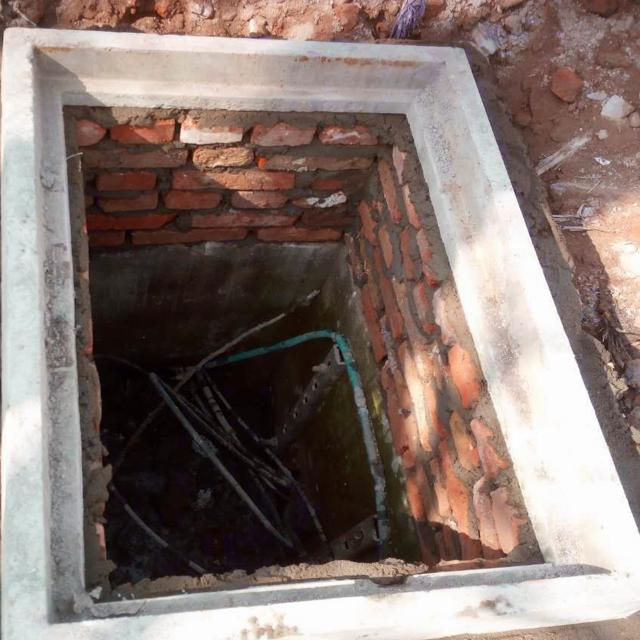lose: (0, 24, 640, 640)
